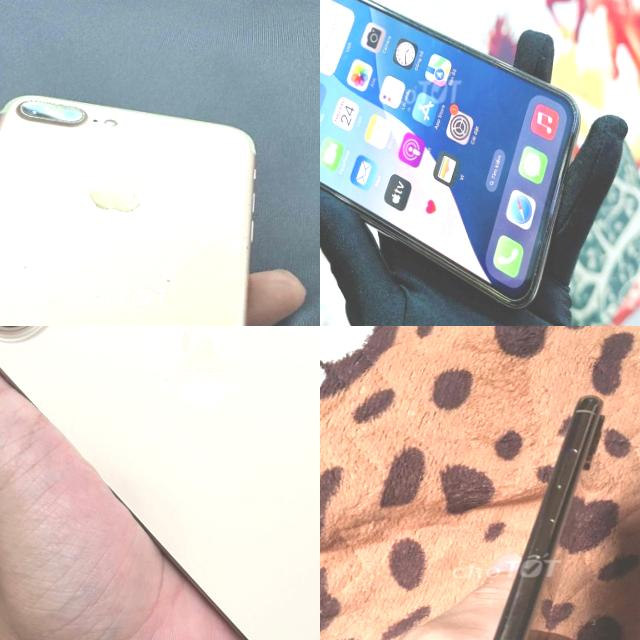gen_16: (0, 326, 320, 640)
gen_7_8: (0, 85, 282, 326)
gen_x_xs: (320, 0, 589, 326), (491, 395, 603, 640)
scratch: (416, 13, 522, 75), (531, 64, 583, 136), (1, 96, 90, 133), (138, 114, 192, 136), (528, 234, 548, 288), (510, 592, 530, 640), (213, 232, 253, 254), (1, 254, 34, 274), (157, 275, 180, 287)
